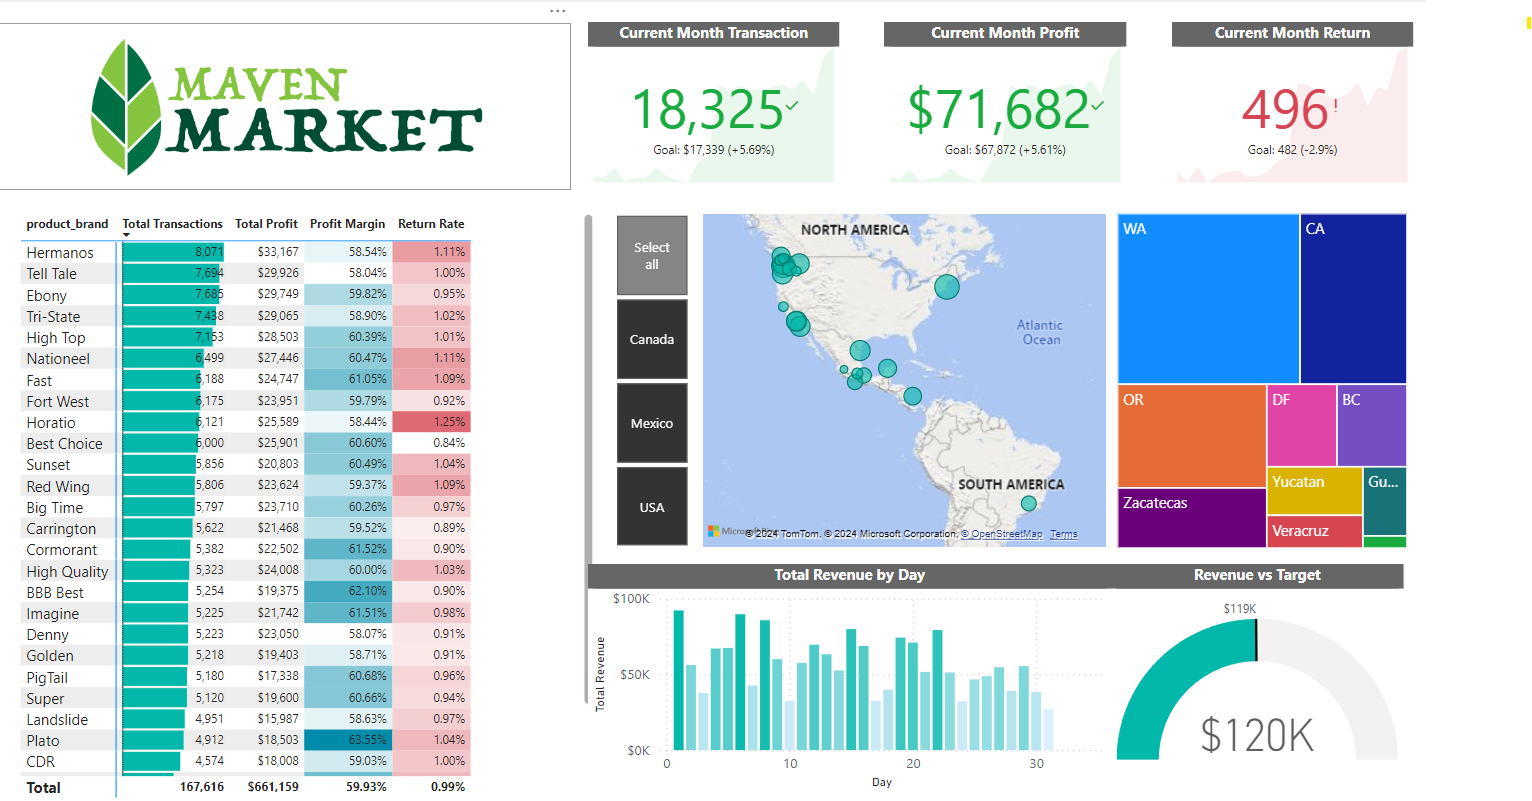

Layout of this report page (visuals, bound fields, positions):
{"tool":"powerbi","page":{"name":"Topline Performance","canvas":[1280,720],"ordinal":0},"visuals":[{"type":"pivotTable","fields":{"Values":["Measure Table.Total Transactions","Measure Table.Total Profit","Measure Table.Profit Margin","Measure Table.Return Rate"],"Rows":["Products.product_brand"]},"box":[13.9,187,522.7,533.1],"z":0},{"type":"kpi","title":"Current Month Transaction","fields":{"Indicator":["Measure Table.Total Transactions"],"TrendLine":["Calendar.Start of Month"],"Goal":["Measure Table.Last Month Transactions"]},"box":[527.3,20.9,225.3,148.7],"z":1000},{"type":"kpi","title":"Current Month Profit","fields":{"TrendLine":["Calendar.Start of Month"],"Indicator":["Measure Table.Total Profit"],"Goal":["Measure Table.Last Month Profit"]},"box":[792.7,20.9,217.2,148.7],"z":2000},{"type":"kpi","title":"Current Month Return","fields":{"TrendLine":["Calendar.Start of Month"],"Indicator":["Measure Table.Total Returns"],"Goal":["Measure Table.Last Month Returns"]},"box":[1050,20.9,216,148.7],"z":3000},{"type":"map","fields":{"Category":["Stores.store_city"],"Size":["Measure Table.Total Transactions"]},"box":[624.9,187.5,370.9,309.4],"z":4000},{"type":"slicer","fields":{"Values":["Stores.store_country"]},"box":[527.1,187.5,112.9,309.4],"z":5000},{"type":"treemap","fields":{"Group":["Stores.store_country","Stores.store_state","Stores.store_city"],"Values":["Measure Table.Total Transactions"]},"box":[996.8,187.5,269.1,309.4],"z":6000},{"type":"columnChart","fields":{"Y":["Measure Table.Total Revenue"],"Category":["Calendar.Start of Week.Variation.Date Hierarchy.Year","Calendar.Start of Week.Variation.Date Hierarchy.Quarter","Calendar.Start of Week.Variation.Date Hierarchy.Month","Calendar.Start of Week.Variation.Date Hierarchy.Day"]},"box":[527.1,506,468.7,205.6],"z":7000},{"type":"gauge","title":"Revenue vs Target","fields":{"Y":["Measure Table.Total Revenue"],"TargetValue":["Calendar.Revenue Target"]},"box":[995.8,506,262,182.4],"z":8000},{"type":"image","box":[0,21.2,512.4,150.3],"z":9000}]}

Visuals, with their boxes on the page's 1280x720 design canvas (x1, y1, x2, y2). These are canvas units, not pixel positions in the 1532x801 screenshot, which may show the page scaled, cropped or inside an application window:
pivotTable - Measure Table.Total Transactions x Measure Table.Total Profit: <bbox>14, 187, 537, 720</bbox>
"Current Month Transaction" kpi: <bbox>527, 21, 753, 170</bbox>
"Current Month Profit" kpi: <bbox>793, 21, 1010, 170</bbox>
"Current Month Return" kpi: <bbox>1050, 21, 1266, 170</bbox>
map - Stores.store_city x Measure Table.Total Transactions: <bbox>625, 188, 996, 497</bbox>
slicer - Stores.store_country: <bbox>527, 188, 640, 497</bbox>
treemap - Stores.store_country x Stores.store_state: <bbox>997, 188, 1266, 497</bbox>
columnChart - Measure Table.Total Revenue x Calendar.Start of Week.Variation.Date Hierarchy.Year: <bbox>527, 506, 996, 712</bbox>
"Revenue vs Target" gauge: <bbox>996, 506, 1258, 688</bbox>
image: <bbox>0, 21, 512, 172</bbox>
